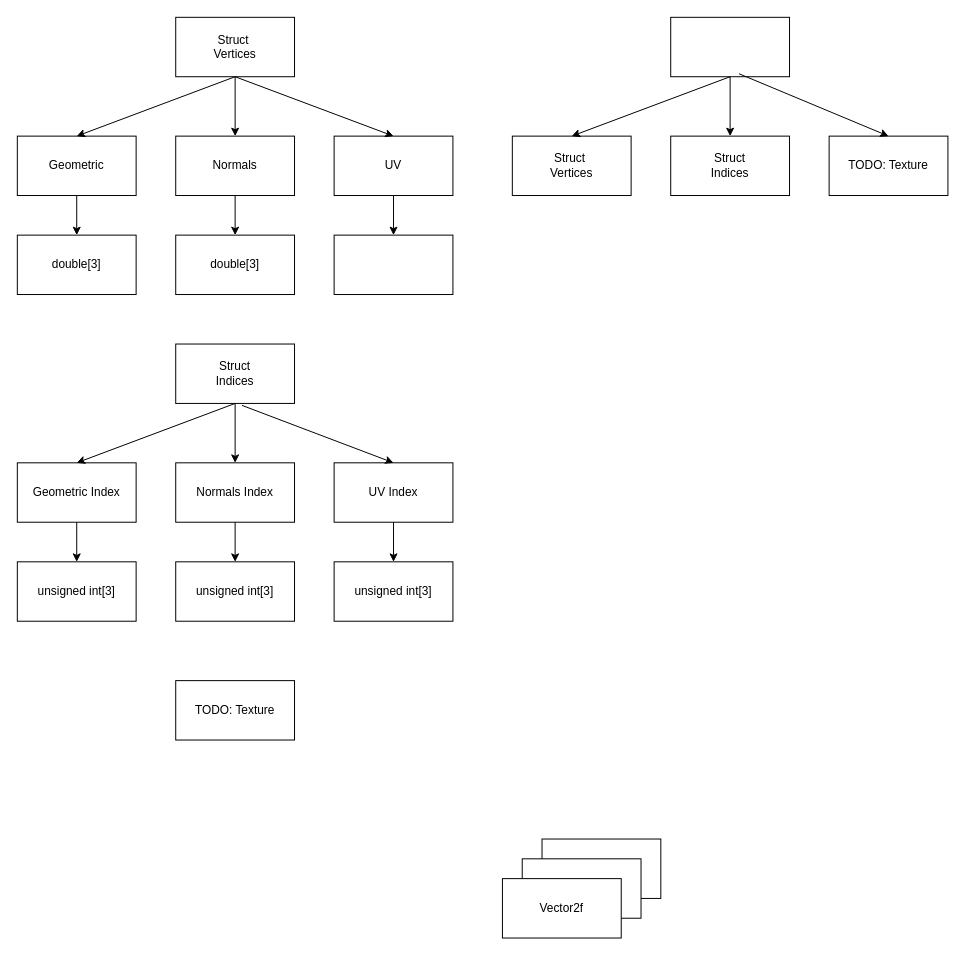
Image size: 965x955. Some labels were removed from this diagram. The shapes that lost their labels are listed below. From the top down, each one's centre as x and y in pixels, then its label:
pixel 730 46: Model
pixel 393 264: double[2]
